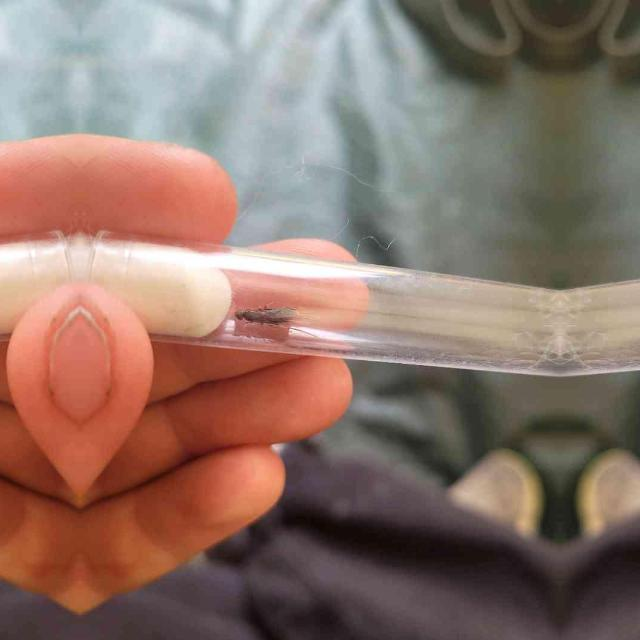Lasius: (230, 298, 294, 330)
